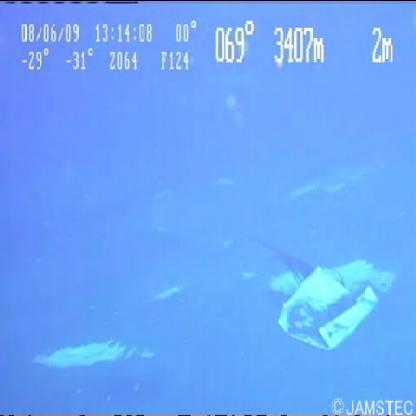Rác: (252, 207, 406, 360)
